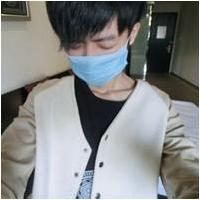face_mask: (65, 11, 128, 87)
